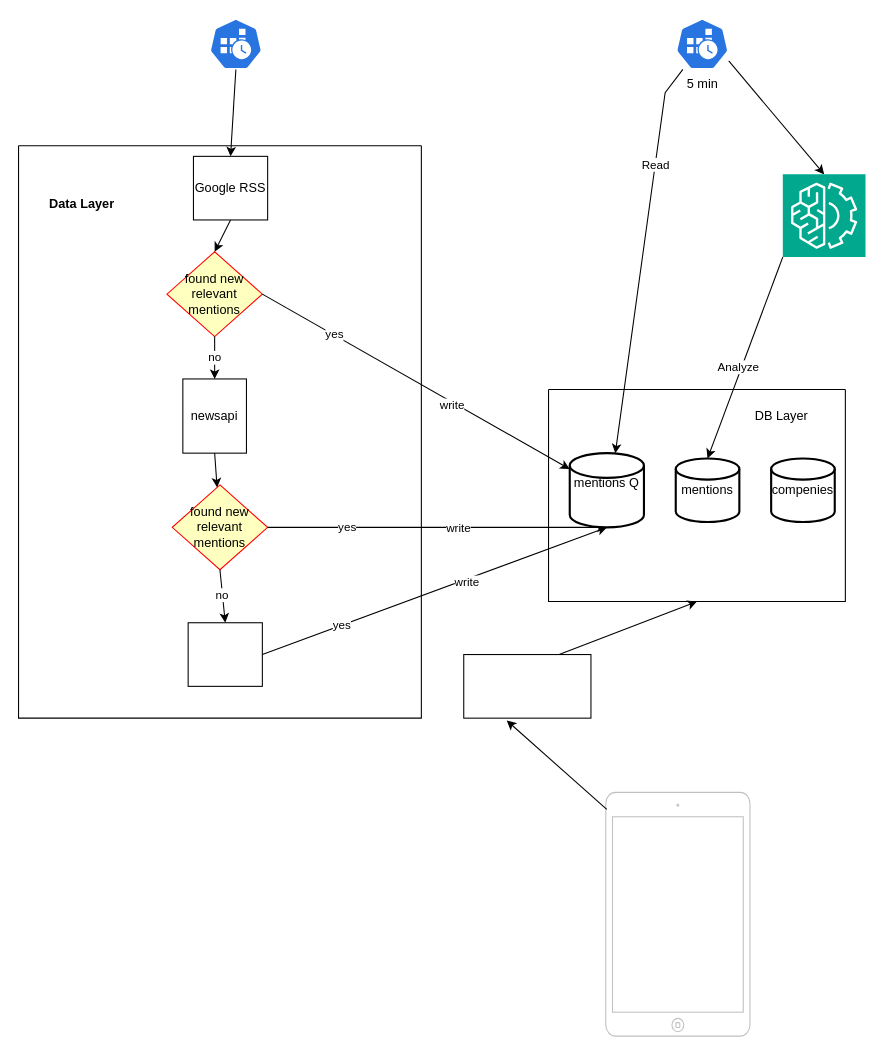
Image size: 884x1055. Some labels were removed from this diagram. Each missing label, with the centre of its shape:
"10 min" belongs at [235,43].
"Gateway API" belongs at [527,685].
"Ollama" belongs at [823,215].
"Tavily API" belongs at [224,654].
